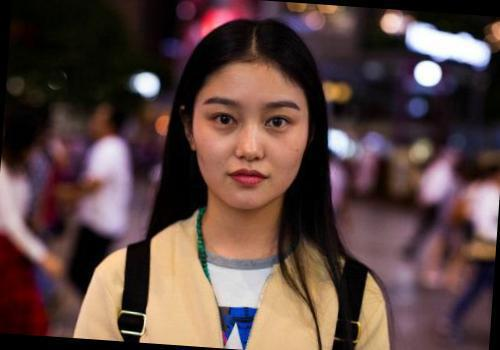Sober: (201, 67, 300, 201)
